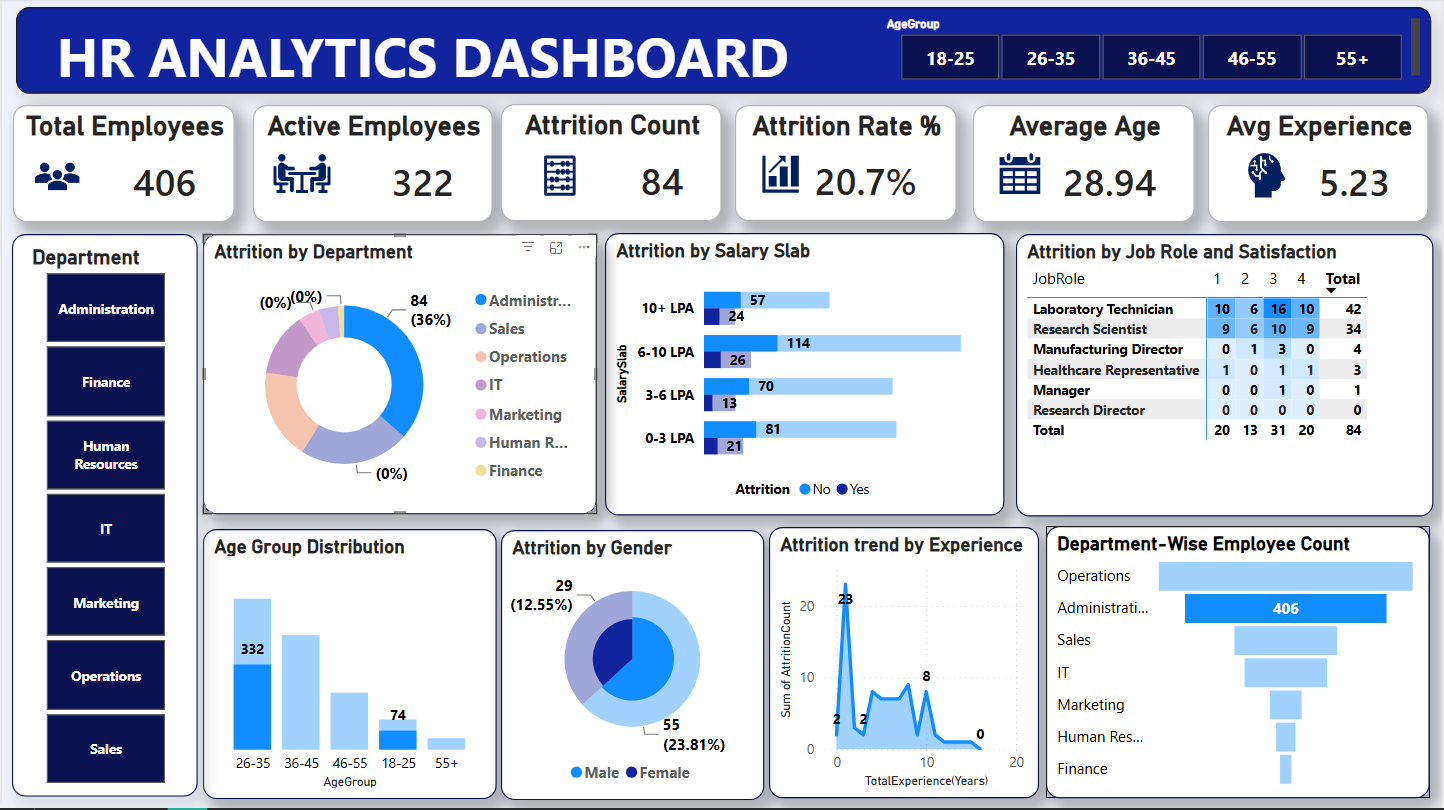

The dashboard page shown, as its layout file describes it:
{"tool":"powerbi","page":{"name":"HR DASHBOARD","canvas":[1280,720],"ordinal":0},"visuals":[{"type":"textbox","box":[12,7.9,1257.9,77.2],"z":0},{"type":"cardVisual","title":"Total Employees","fields":{"Data":["CountNonNull(HR_Analytics-4.EmpID)"]},"box":[10,95,197,104],"z":2000},{"type":"cardVisual","title":"Active Employees","fields":{"Data":["CountNonNull(HR_Analytics-4.EmployeeCount)"]},"box":[222.7,95.3,213,104.1],"z":3000},{"type":"cardVisual","title":"Attrition Count","fields":{"Data":["Sum(HR_Analytics-4.AttritionCount)"]},"box":[443.5,94.3,196.5,104.1],"z":4000},{"type":"cardVisual","title":"Attrition Rate %","fields":{"Data":["HR_Analytics-4.Attrition Rate %"]},"box":[651.2,95,196.9,102.9],"z":5000},{"type":"cardVisual","title":"Average Age","fields":{"Data":["Avg(HR_Analytics-4.Age)"]},"box":[862.7,95.3,197.4,104.1],"z":6000},{"type":"cardVisual","title":"Avg Experience","fields":{"Data":["Avg(HR_Analytics-4.YearsatCompany)"]},"box":[1071.9,95.3,196.5,104.1],"z":7000},{"type":"image","box":[18.5,136.2,60.3,44.7],"z":8000},{"type":"image","box":[669.2,126.4,44.7,61.3],"z":9000},{"type":"image","box":[234.4,112.8,64.2,85.6],"z":10000},{"type":"image","box":[1087.4,134.2,73.9,46.7],"z":11000},{"type":"image","box":[457.1,137.1,78.8,41.8],"z":12000},{"type":"image","box":[861.8,130.3,87.5,50.6],"z":13000},{"type":"donutChart","title":"Attrition by Department","fields":{"Category":["HR_Analytics-4.Department"],"Y":["Sum(HR_Analytics-4.AttritionCount)"]},"box":[179,210,350,249],"z":14000},{"type":"clusteredBarChart","title":"Attrition by Salary Slab","fields":{"Category":["HR_Analytics-4.SalarySlab"],"Series":["HR_Analytics-4.Attrition"],"Y":["CountNonNull(HR_Analytics-4.EmpID)"]},"box":[536.4,208.8,355.3,251.4],"z":15000},{"type":"pivotTable","title":"Attrition by Job Role and Satisfaction","fields":{"Columns":["HR_Analytics-4.JobSatisfaction"],"Rows":["HR_Analytics-4.JobRole"],"Values":["Sum(HR_Analytics-4.AttritionCount)"]},"box":[901.6,210.1,371,251],"z":16000},{"type":"columnChart","title":"Age Group Distribution","fields":{"Category":["HR_Analytics-4.AgeGroup"],"Y":["Sum(HR_Analytics-4.EmployeeCount)"]},"box":[179.1,472.2,261.3,240.1],"z":17000},{"type":"pieChart","title":"Attrition by Gender","fields":{"Category":["HR_Analytics-4.Gender"],"Y":["Sum(HR_Analytics-4.AttritionCount)"]},"box":[443.4,473.1,233.6,239.5],"z":18000},{"type":"areaChart","title":"Attrition trend by Experience","fields":{"Category":["HR_Analytics-4.TotalExperience(Years)"],"Y":["Sum(HR_Analytics-4.AttritionCount)"]},"box":[681.9,470.1,239.5,241.5],"z":19000},{"type":"funnel","title":"Department-Wise Employee Count","fields":{"Category":["HR_Analytics-4.Department"],"Y":["CountNonNull(HR_Analytics-4.EmpID)"]},"box":[928,469,341,242],"z":20000},{"type":"slicer","fields":{"Values":["HR_Analytics-4.Department"]},"box":[9,209.6,165,500],"z":21000},{"type":"slicer","fields":{"Values":["HR_Analytics-4.AgeGroup"]},"box":[773.3,11.7,495.1,68.1],"z":22000}]}

Visuals, with their boxes in screenshot pixels (x1, y1, x2, y2), scaled from the page's 1280x720 canvas onto the 1444x810 screenshot:
textbox: 14:9:1433:96
"Total Employees" cardVisual: 11:107:234:224
"Active Employees" cardVisual: 251:107:492:224
"Attrition Count" cardVisual: 500:106:722:223
"Attrition Rate %" cardVisual: 735:107:957:223
"Average Age" cardVisual: 973:107:1196:224
"Avg Experience" cardVisual: 1209:107:1431:224
image: 21:153:89:204
image: 755:142:805:211
image: 264:127:337:223
image: 1227:151:1310:204
image: 516:154:605:201
image: 972:147:1071:204
"Attrition by Department" donutChart: 202:236:597:516
"Attrition by Salary Slab" clusteredBarChart: 605:235:1006:518
"Attrition by Job Role and Satisfaction" pivotTable: 1017:236:1436:519
"Age Group Distribution" columnChart: 202:531:497:801
"Attrition by Gender" pieChart: 500:532:764:802
"Attrition trend by Experience" areaChart: 769:529:1039:801
"Department-Wise Employee Count" funnel: 1047:528:1432:800
slicer - HR_Analytics-4.Department: 10:236:196:798
slicer - HR_Analytics-4.AgeGroup: 872:13:1431:90
